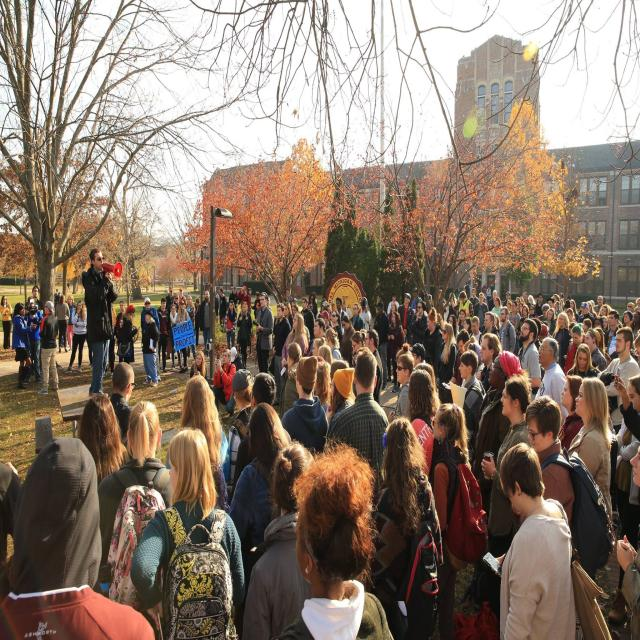body: (0, 436, 155, 640), (125, 423, 252, 639), (268, 444, 396, 640), (92, 402, 175, 640), (492, 441, 577, 640), (524, 395, 616, 578), (371, 416, 445, 640), (242, 437, 316, 640), (428, 401, 490, 640), (228, 402, 301, 576), (300, 292, 389, 417), (566, 378, 618, 580), (486, 287, 611, 370), (610, 293, 640, 638), (480, 369, 532, 558), (327, 347, 390, 501), (469, 353, 524, 519), (164, 372, 230, 509), (606, 372, 640, 626), (230, 372, 278, 511), (0, 444, 34, 631), (80, 246, 120, 402), (74, 391, 131, 490), (280, 352, 330, 462), (615, 441, 640, 640), (596, 325, 640, 435), (407, 369, 441, 479), (458, 349, 486, 469), (390, 336, 438, 406), (228, 368, 255, 491), (534, 336, 570, 424), (36, 299, 61, 396), (109, 361, 137, 447), (327, 364, 356, 443), (9, 299, 33, 391), (556, 374, 584, 451), (272, 302, 292, 406), (384, 310, 408, 394), (22, 294, 44, 385), (387, 353, 415, 423), (434, 323, 458, 403), (140, 296, 162, 382), (279, 341, 302, 421), (211, 348, 237, 418), (63, 300, 87, 374), (475, 332, 503, 394), (446, 328, 472, 394), (140, 308, 160, 388), (364, 328, 384, 406), (256, 292, 274, 375), (421, 306, 444, 370), (117, 304, 140, 366), (459, 318, 487, 367), (375, 300, 390, 390), (552, 312, 572, 374), (103, 291, 117, 379), (567, 342, 601, 378), (434, 288, 459, 336), (236, 300, 253, 370), (349, 329, 366, 398), (174, 300, 190, 373), (498, 305, 520, 357), (279, 291, 300, 342), (169, 303, 184, 370), (585, 327, 607, 372), (603, 309, 621, 361), (156, 297, 168, 373), (165, 294, 196, 323), (397, 292, 414, 344), (198, 289, 210, 360), (410, 300, 428, 347), (56, 294, 70, 354), (0, 292, 14, 351), (308, 316, 327, 358), (341, 315, 356, 368), (185, 295, 197, 359), (224, 299, 238, 352), (24, 284, 45, 318), (115, 299, 126, 363), (473, 292, 489, 334), (325, 327, 343, 362), (300, 298, 314, 342), (190, 350, 208, 382), (67, 295, 77, 351), (335, 297, 349, 336), (508, 300, 522, 337), (458, 291, 473, 325), (331, 309, 343, 350), (408, 342, 426, 369), (468, 316, 484, 346), (349, 304, 366, 332), (218, 288, 228, 334), (579, 302, 594, 329), (193, 296, 201, 346), (446, 291, 458, 324), (543, 307, 557, 335), (84, 328, 94, 367), (360, 296, 371, 331), (387, 302, 401, 328), (409, 299, 423, 324), (230, 346, 243, 372), (228, 286, 241, 312), (340, 298, 353, 324), (237, 285, 251, 309), (250, 290, 261, 320), (518, 304, 530, 331), (386, 292, 399, 316), (307, 292, 318, 320), (409, 287, 423, 309), (284, 301, 294, 331), (318, 310, 332, 329), (165, 286, 176, 310), (468, 288, 480, 310), (490, 296, 502, 318), (448, 314, 458, 340), (457, 307, 467, 333), (534, 292, 544, 316), (570, 299, 580, 323), (488, 289, 498, 312), (244, 288, 253, 312), (281, 288, 294, 304), (480, 279, 488, 303), (502, 290, 514, 306), (462, 318, 472, 336), (594, 296, 604, 314), (528, 305, 540, 319), (566, 308, 577, 323), (53, 284, 62, 302), (172, 294, 180, 312), (215, 285, 220, 311), (522, 291, 531, 305), (464, 280, 471, 298), (215, 293, 220, 317), (266, 296, 272, 312), (486, 285, 491, 304), (501, 280, 506, 298), (178, 286, 184, 300), (463, 276, 471, 286), (506, 299, 512, 311), (428, 294, 433, 308), (490, 282, 494, 299), (144, 282, 149, 294), (481, 294, 486, 304), (150, 280, 154, 292), (67, 281, 71, 292), (183, 280, 186, 286)
